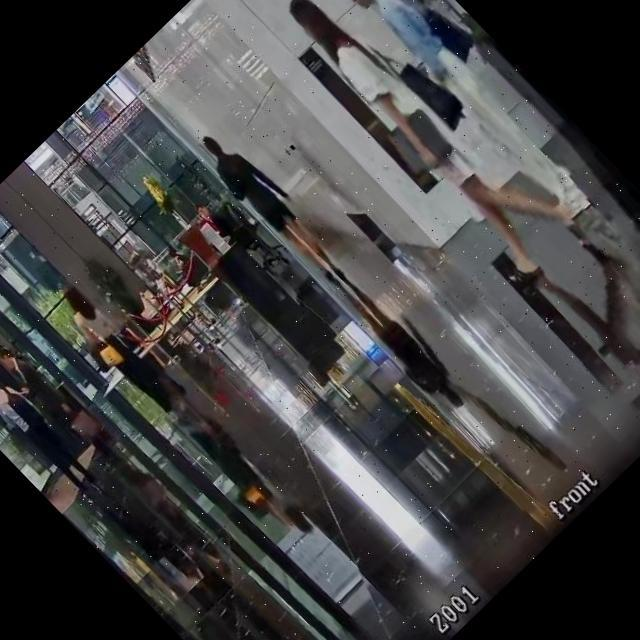person: (270, 0, 606, 302), (322, 0, 600, 228), (190, 121, 356, 292), (48, 271, 200, 427), (0, 363, 102, 497), (0, 333, 100, 453), (195, 196, 245, 248), (162, 246, 210, 294), (147, 268, 185, 308)
